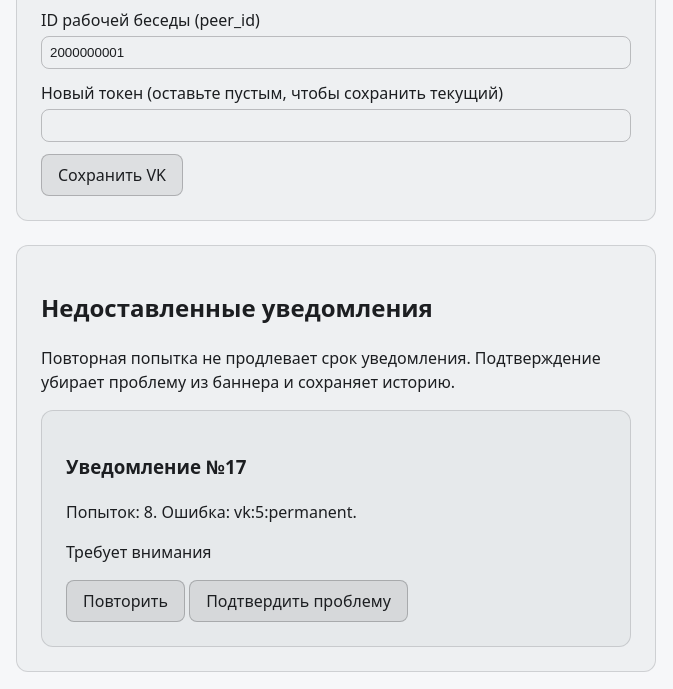
VK settings › retries the selected job and removes it from the DEAD list
(page scrolled)
Click the button "Повторить". click: (126, 601)
box: [66, 580, 185, 622]
(page scrolled)
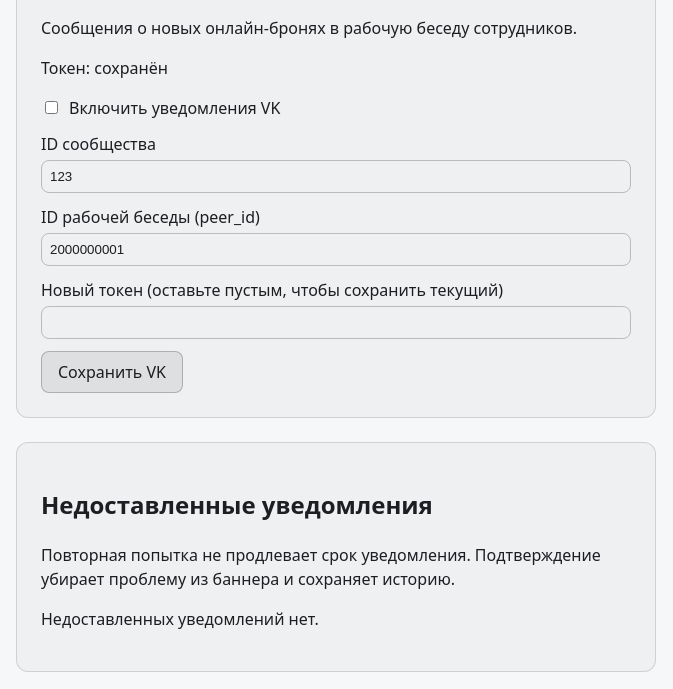
Now the text "Недоставленных уведомлений нет." is shown, box [41, 608, 319, 630]
